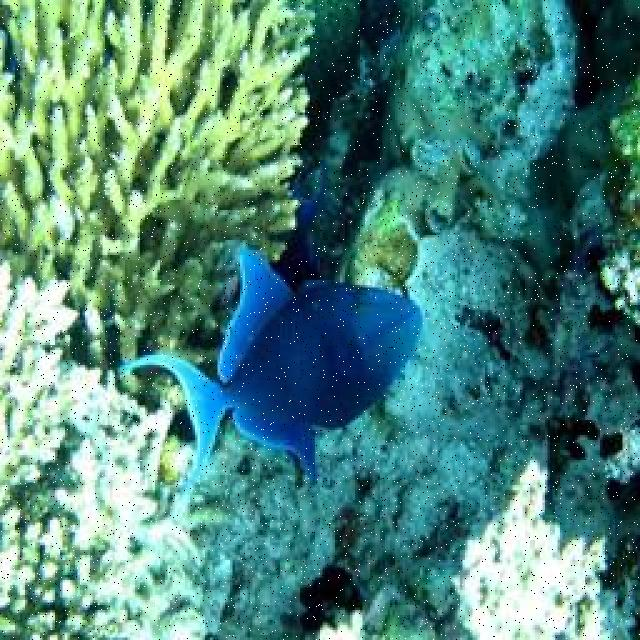fish: (116, 249, 423, 509)
reefs: (0, 0, 316, 478), (1, 261, 231, 638), (455, 460, 629, 638)
